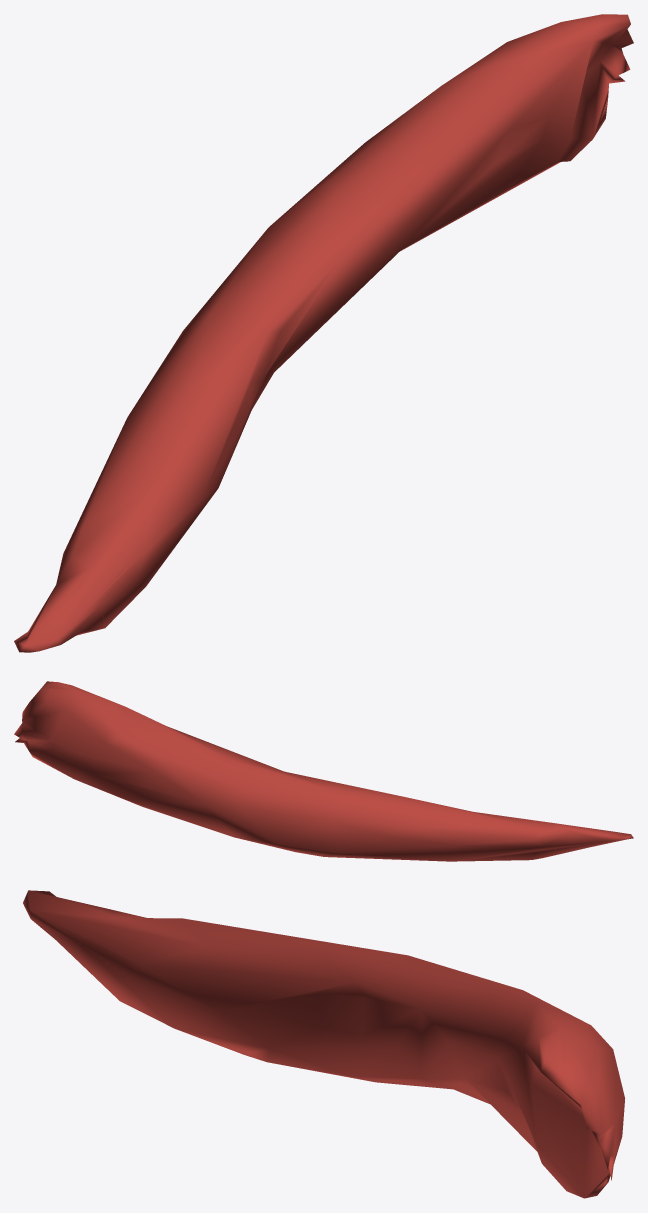
File: musculos-superior-gemellus-muscle-r.glb
The picture shows the model from 3 angles, top to bottom: view 1: azimuth 30°, elevation 25°; view 2: azimuth 150°, elevation 25°; view 3: azimuth 270°, elevation 25°; orthographic projection. The views are drawn at different scales.
Visible parts, largest first — view 1: Superior gemellus muscle.r; view 2: Superior gemellus muscle.r; view 3: Superior gemellus muscle.r.
Boxes of the visible parts, left/top/right/bottom form: Superior gemellus muscle.r: left=14, top=14, right=633, bottom=652; Superior gemellus muscle.r: left=14, top=681, right=633, bottom=861; Superior gemellus muscle.r: left=23, top=890, right=625, bottom=1198.
Size of the model in its own units: 0.0834 by 0.0272 by 0.0457.
